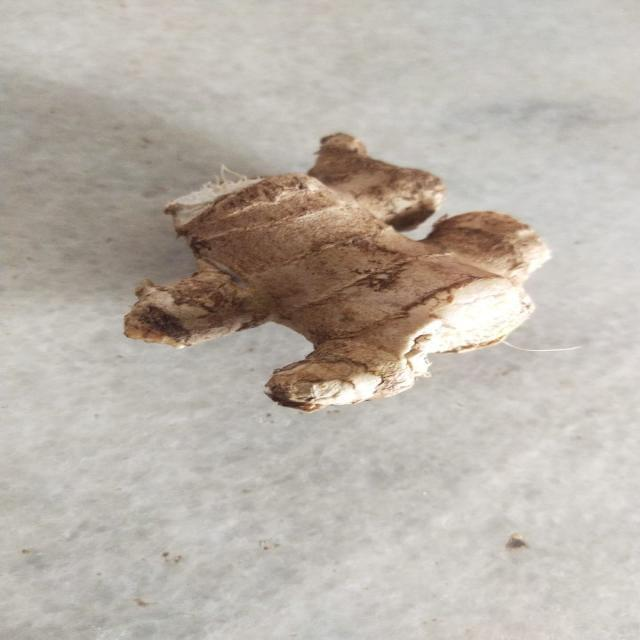ginger: (119, 143, 552, 412)
